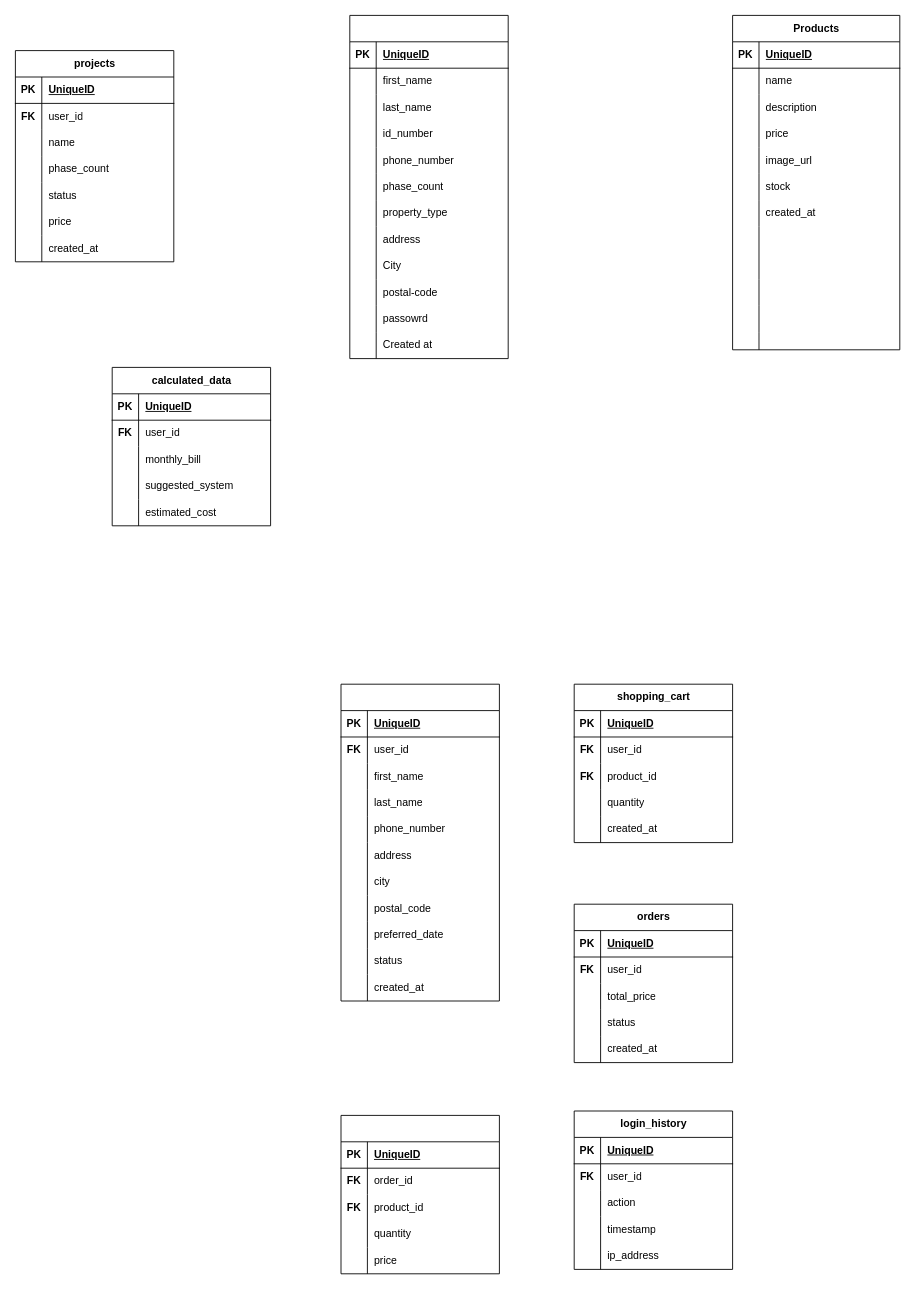
Image size: 915x1289. Some labels were removed from this diagram. The shapes that lost their labels are listed below. From the top down, each one's box as (x1, y1, x2, y2) in pixels, then its label:
(349, 15, 508, 359): Customers
(340, 683, 499, 1001): appointments
(340, 1115, 499, 1274): order_items
